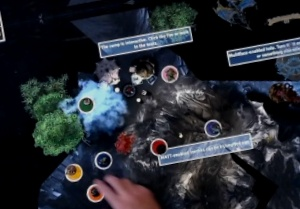blue: (90, 147, 116, 170)
green: (73, 92, 97, 116)
orange: (82, 177, 108, 205)
pink: (156, 61, 180, 86)
red: (147, 134, 174, 159)
violet: (199, 115, 224, 139)
yellow: (59, 160, 83, 184)
